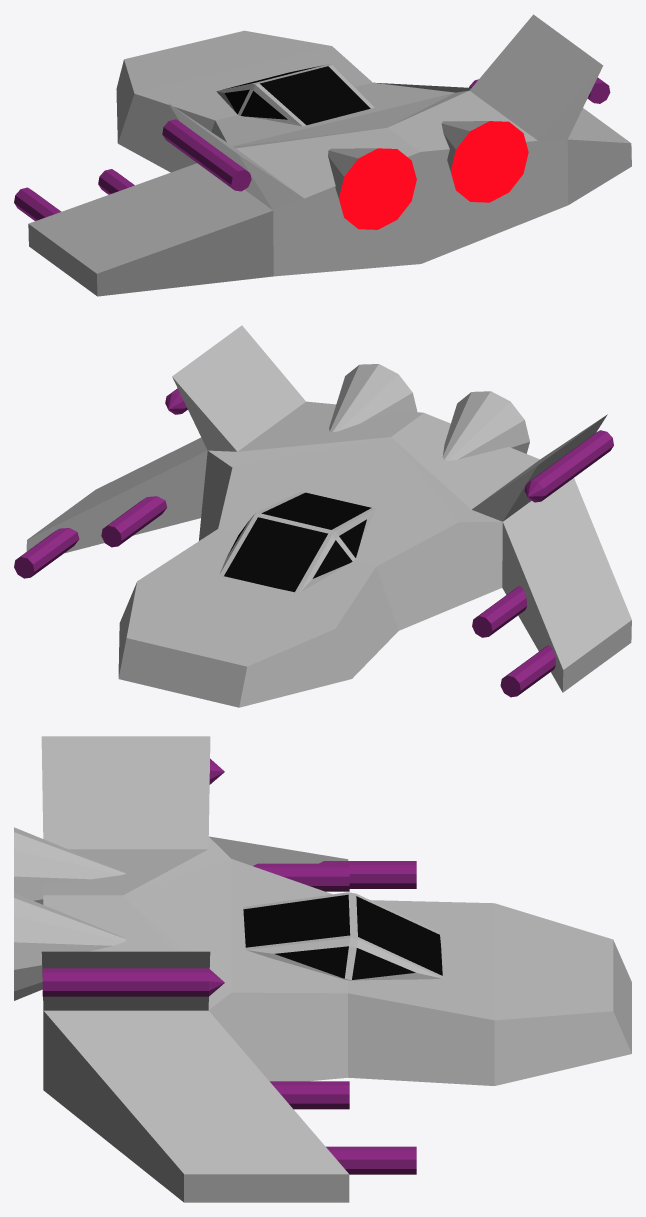
Rendered from HisShip.fbx.
The picture shows the model from 3 angles, top to bottom: view 1: azimuth 30°, elevation 25°; view 2: azimuth 150°, elevation 25°; view 3: azimuth 270°, elevation 25°; orthographic projection. The views are drawn at different scales.
Parts seen in each view (by area): view 1: Body, Cabin, LeftEngine, RightEngine, LeftRocket, LeftERLaser, LeftPulseLaser; view 2: Body, Cabin, LeftEngine, RightEngine, LeftRocket, RightPulseLaser, RightERLaser, LeftERLaser, LeftPulseLaser; view 3: Body, Cabin, RightEngine, RightRocket, LeftEngine, RightERLaser, RightPulseLaser, LeftERLaser, LeftPulseLaser.
Boxes of the visible parts, x1,y1,x2,y2 form: Body: [28, 14, 631, 296]; Cabin: [216, 64, 374, 126]; LeftEngine: [328, 148, 416, 229]; RightEngine: [441, 121, 528, 202]; LeftRocket: [162, 119, 251, 191]; LeftERLaser: [14, 187, 61, 220]; LeftPulseLaser: [98, 169, 134, 194]; Body: [26, 325, 631, 707]; Cabin: [219, 491, 375, 592]; LeftEngine: [442, 391, 529, 460]; RightEngine: [329, 364, 417, 432]; LeftRocket: [524, 430, 613, 502]; RightPulseLaser: [101, 496, 167, 547]; RightERLaser: [14, 528, 79, 578]; LeftERLaser: [500, 645, 555, 697]; LeftPulseLaser: [472, 586, 527, 637]; Body: [41, 736, 631, 1202]; Cabin: [243, 892, 442, 980]; RightEngine: [14, 893, 125, 1000]; RightRocket: [42, 968, 224, 996]; LeftEngine: [14, 827, 126, 904]; RightERLaser: [326, 1146, 416, 1174]; RightPulseLaser: [270, 1081, 349, 1109]; LeftERLaser: [319, 861, 416, 888]; LeftPulseLaser: [253, 863, 349, 891].
Bounding box in the file's own units: 321 × 95.19 × 267.
